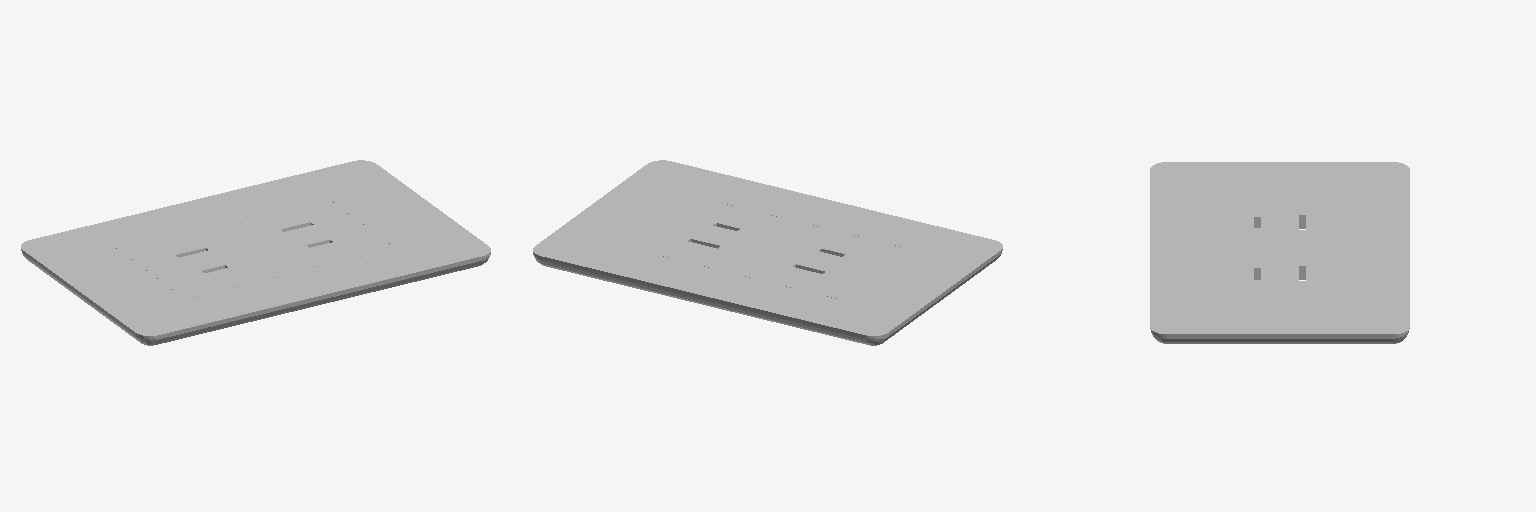
The model's file is Electric plug.obj.
3 views of the same model, side by side, from view 1: azimuth 30°, elevation 25°; view 2: azimuth 150°, elevation 25°; view 3: azimuth 270°, elevation 25° (orthographic).
Parts seen in each view (by area): view 1: obj_0.002; view 2: obj_0.002; view 3: obj_0.002.
Boxes of the visible parts, box(x1,y1,x2,y2) form: obj_0.002: box(21, 160, 490, 345); obj_0.002: box(533, 160, 1002, 345); obj_0.002: box(1150, 162, 1409, 343).
Size of the model in its own units: 11.8 by 0.497 by 7.5.